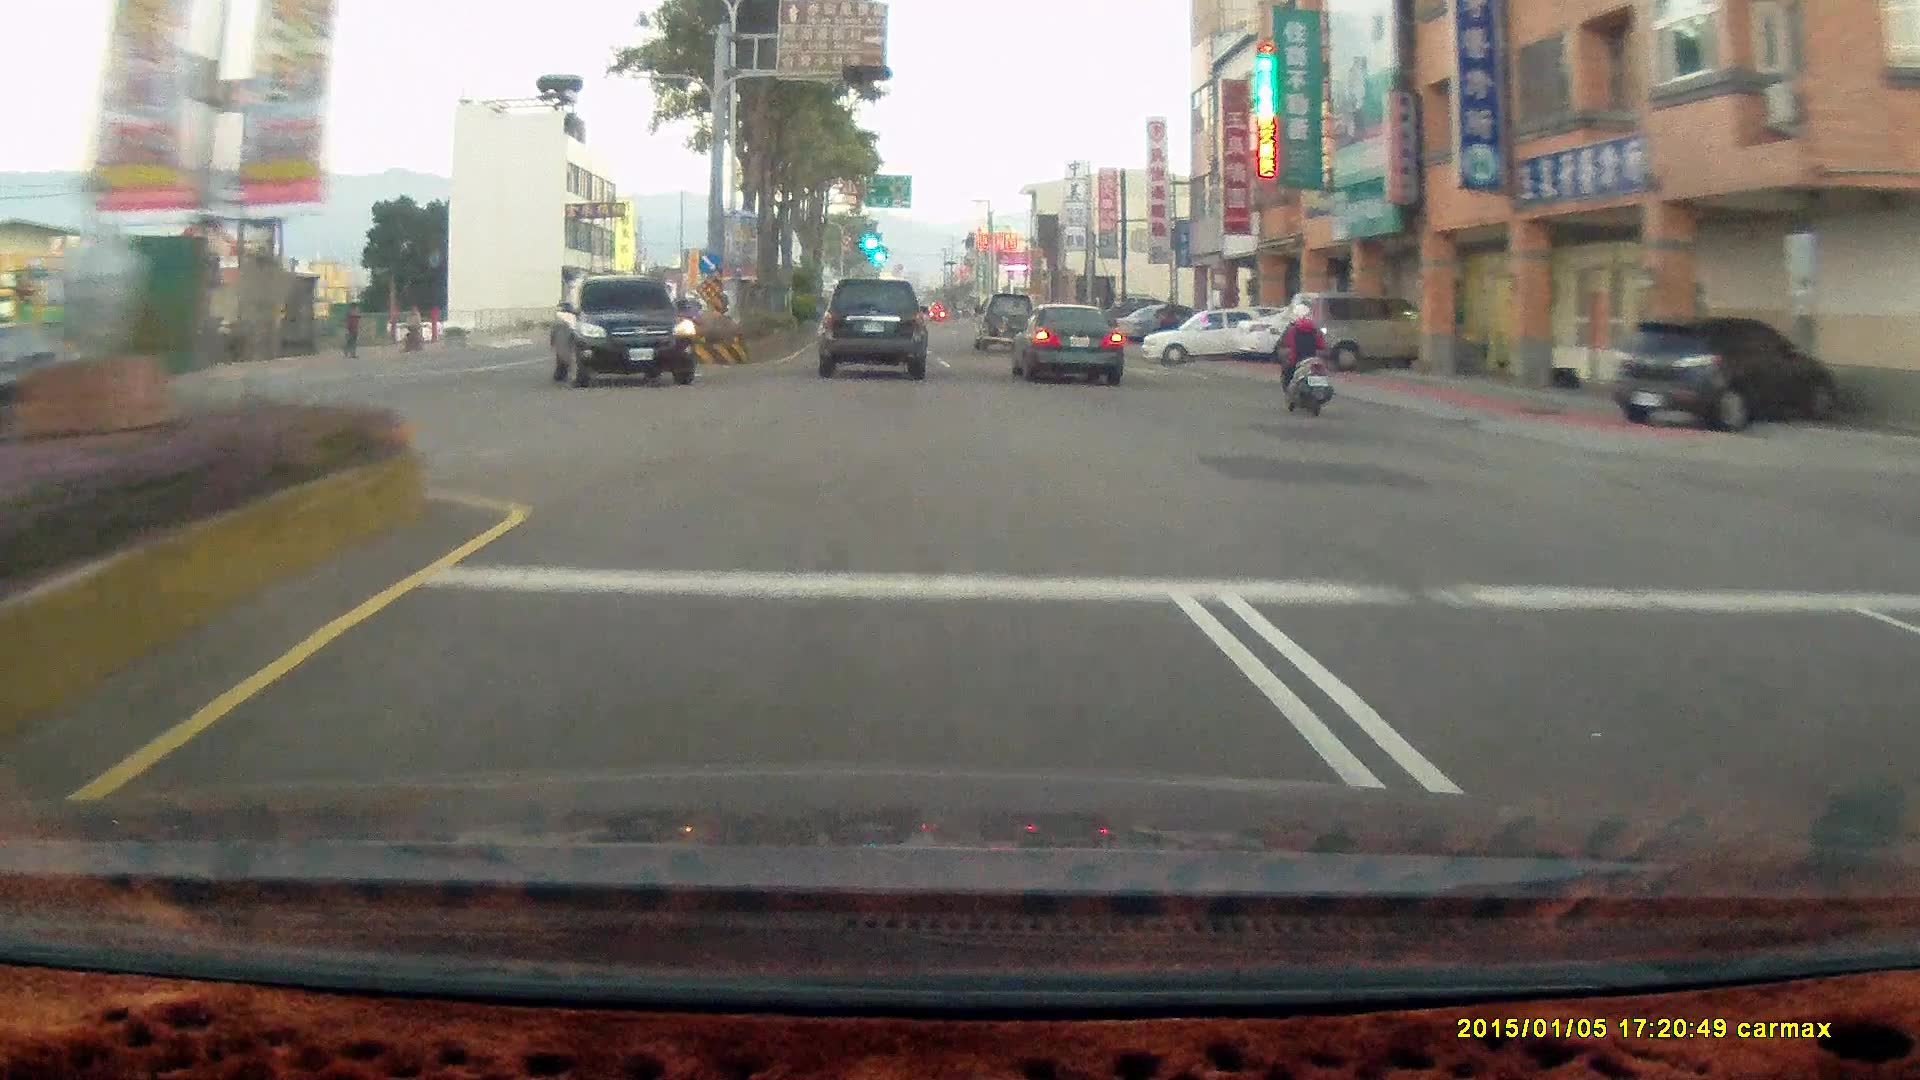pedestrian: (339, 306, 361, 359)
rider: (1263, 293, 1342, 422), (1272, 299, 1334, 415)
vehicle: (1614, 318, 1841, 431), (1613, 320, 1832, 426), (548, 276, 698, 389), (548, 273, 695, 386), (1276, 292, 1454, 370), (1275, 295, 1427, 373), (823, 276, 933, 379), (817, 276, 927, 378), (1233, 297, 1388, 364), (1009, 302, 1131, 385), (1007, 299, 1121, 382), (1148, 304, 1286, 370), (1139, 307, 1278, 366), (971, 289, 1039, 348), (1118, 301, 1207, 341)
